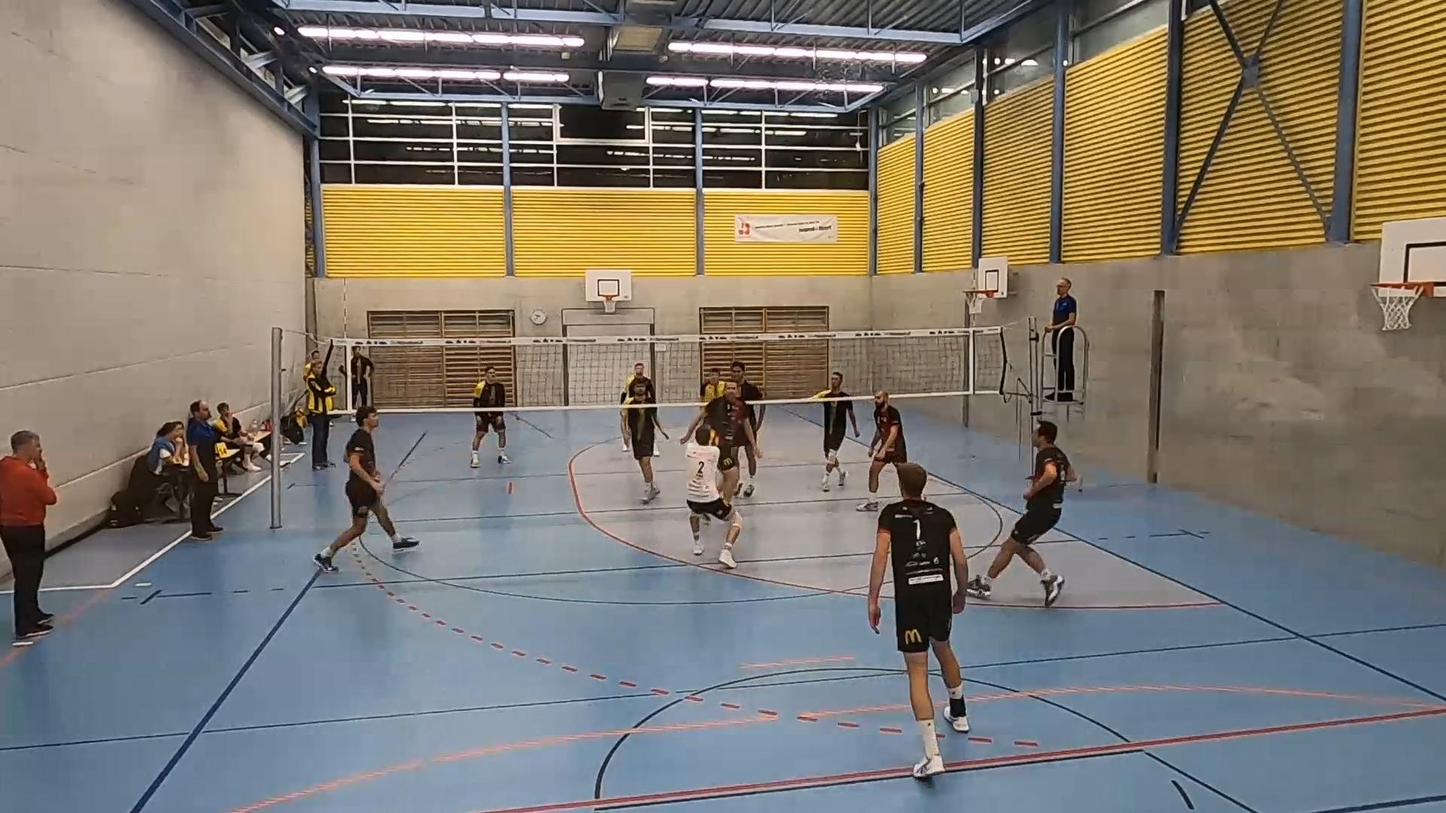Player: (868, 463, 969, 779), (968, 421, 1075, 606), (313, 406, 418, 572), (681, 426, 747, 574), (680, 382, 761, 497), (856, 390, 907, 510), (621, 380, 668, 503), (470, 366, 510, 467), (821, 400, 859, 492), (731, 361, 765, 437), (620, 364, 655, 403), (700, 367, 724, 403)
